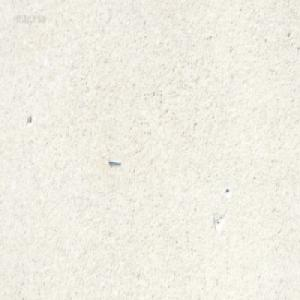Nail: (107, 156, 120, 165)
